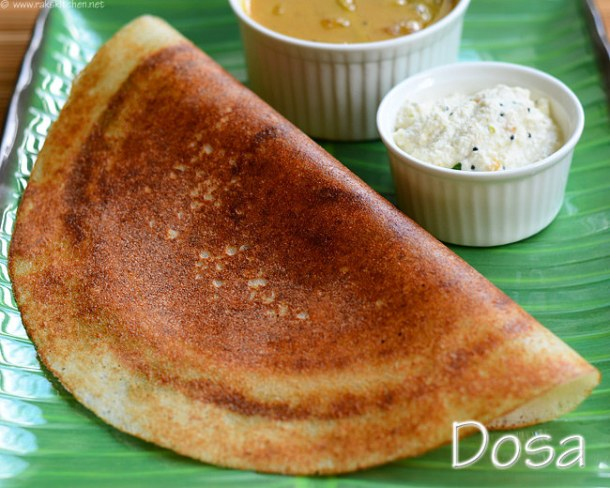dosa: (8, 11, 605, 477)
